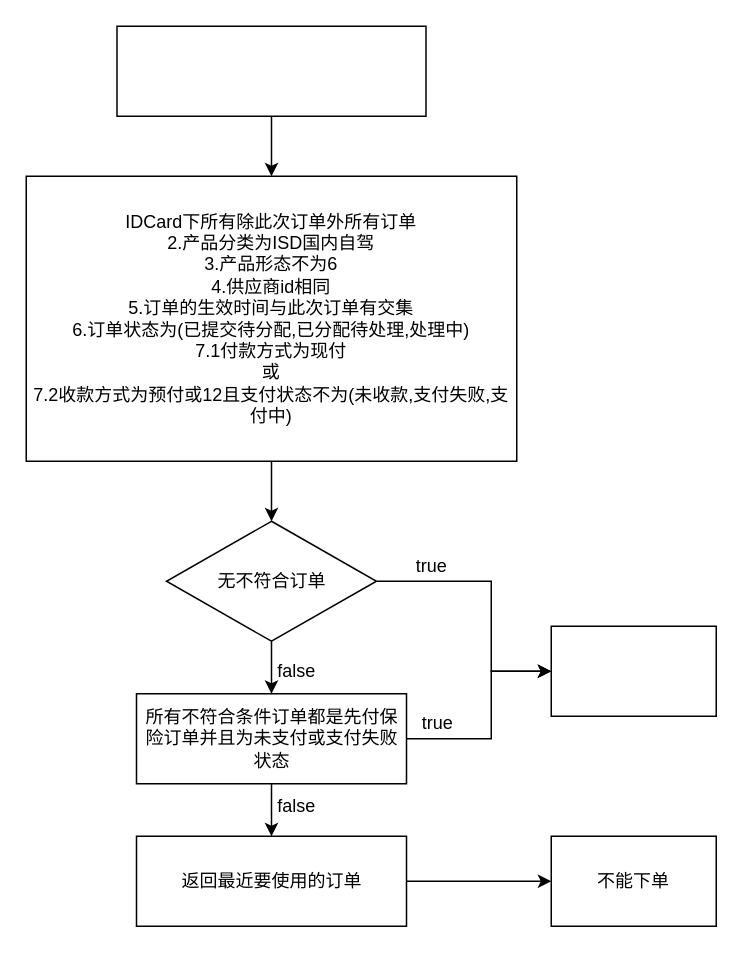
This 743x953 diagram has some shape labels left out. The box of each missing label's shape, as (x1, y1, x2, y2) in pixels:
ISDBookingAvailableRequest: (116, 25, 426, 116)
可以下单: (550, 625, 716, 716)
